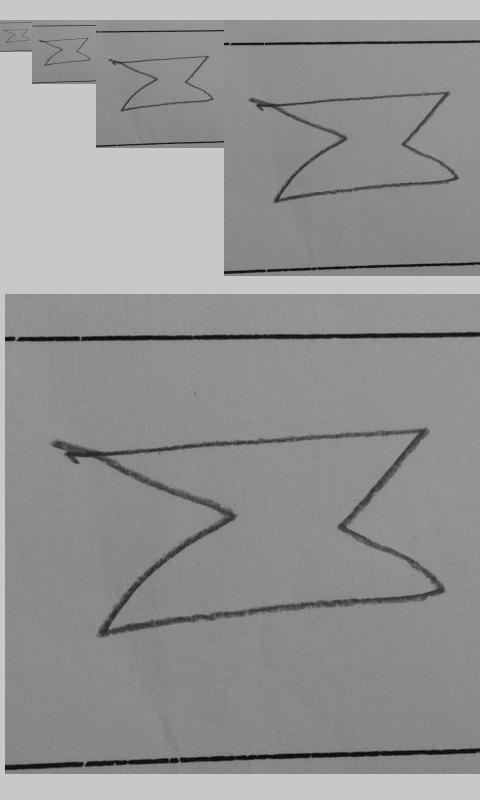edit_text: (61, 426, 445, 639), (256, 90, 459, 202), (112, 55, 214, 111), (41, 37, 91, 66), (4, 28, 31, 43)
